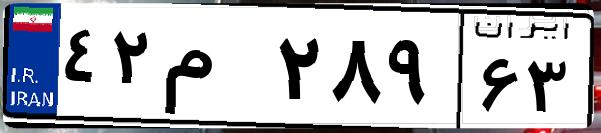2: (270, 28, 330, 110), (110, 28, 158, 98)
3: (525, 38, 570, 115)
4: (57, 26, 110, 100)
6: (475, 38, 525, 113)
8: (330, 28, 385, 110)
9: (385, 28, 445, 110)
م: (158, 20, 270, 120)
